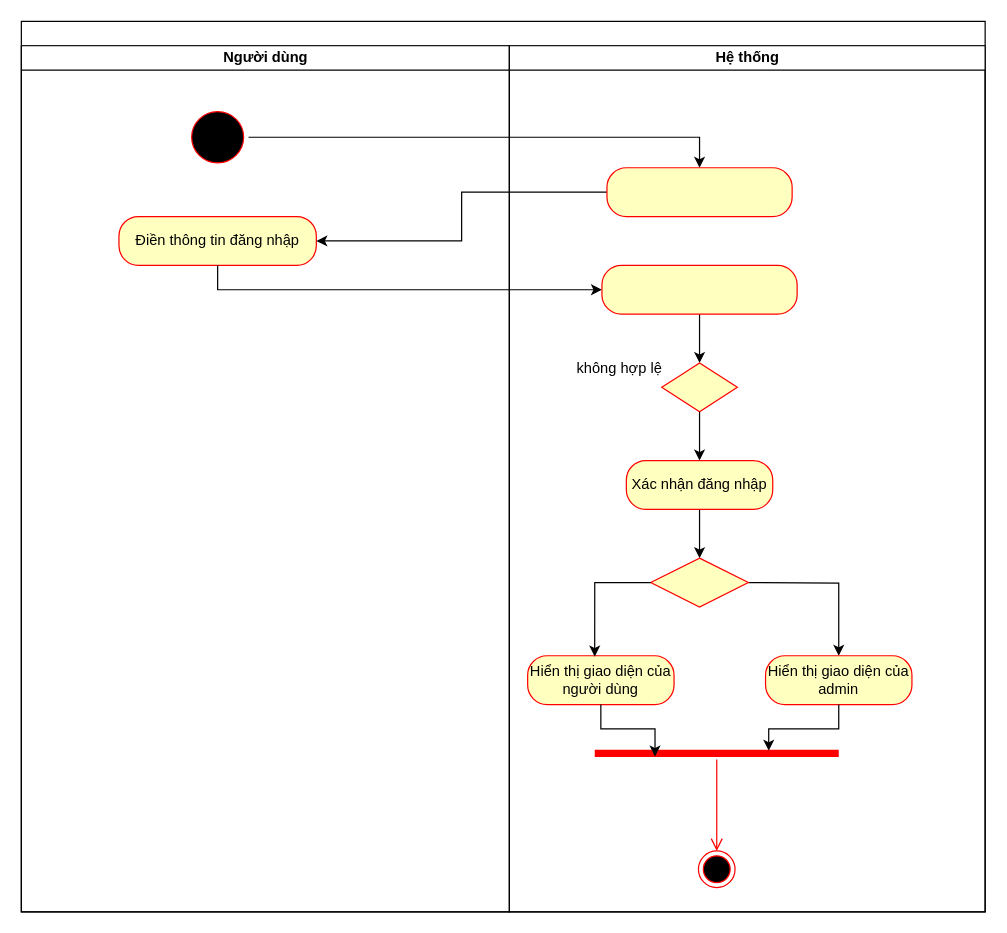
The diagram is 1007 pixels wide and 933 high, and some of its shapes have lost their labels. The shapes that lost their labels are listed below. From the top down, each one's centre as x and y in pixels, then its label:
point (699, 192): Hiển thị màn hình đăng nhập
point (699, 289): Kiểm tra thông tin đăng nhập
